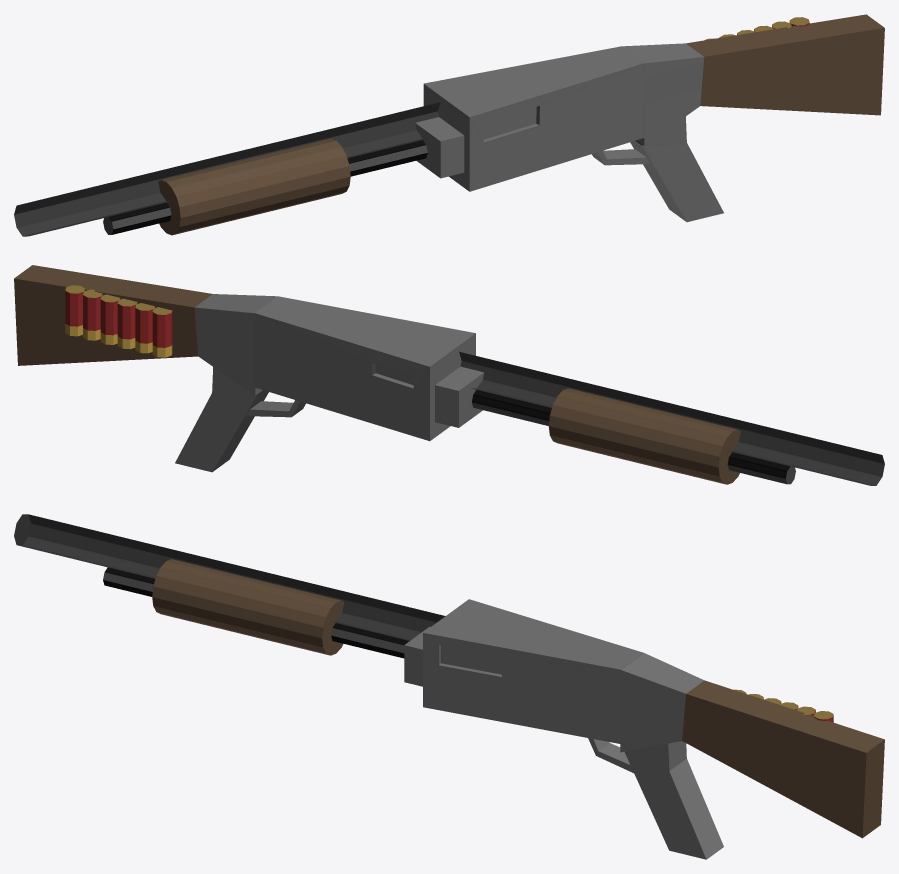
Rendered from shotgun.fbx.
The picture shows the model from 3 angles, top to bottom: view 1: azimuth 30°, elevation 25°; view 2: azimuth 150°, elevation 25°; view 3: azimuth 330°, elevation 25°; orthographic projection.
Parts seen in each view (by area): view 1: Cube; view 2: Cube; view 3: Cube.
Boxes of the visible parts, <box> form: Cube: <box>14,14,884,236</box>; Cube: <box>14,265,884,485</box>; Cube: <box>14,514,884,859</box>.
Size of the model in its own units: 424 by 81.7 by 39.62.
